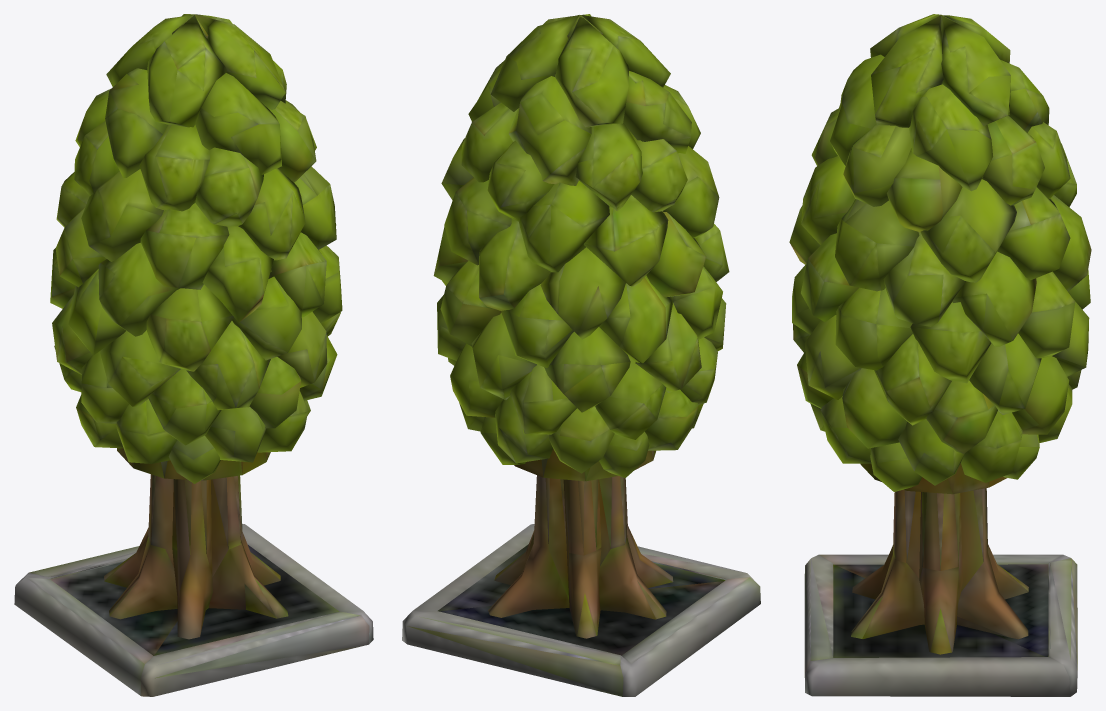
File: lime.glb
3 views of the same model, side by side, from view 1: azimuth 30°, elevation 25°; view 2: azimuth 150°, elevation 25°; view 3: azimuth 270°, elevation 25° (orthographic). The views are drawn at different scales.
Visible parts, largest first — view 1: geometry_0; view 2: geometry_0; view 3: geometry_0.
Boxes of the visible parts, left/top/right/bottom form: geometry_0: left=14, top=14, right=373, bottom=696; geometry_0: left=402, top=14, right=760, bottom=696; geometry_0: left=789, top=14, right=1091, bottom=696.
Bounding box in the file's own units: 0.439 × 1 × 0.4363.
1 material, 1 textured.
